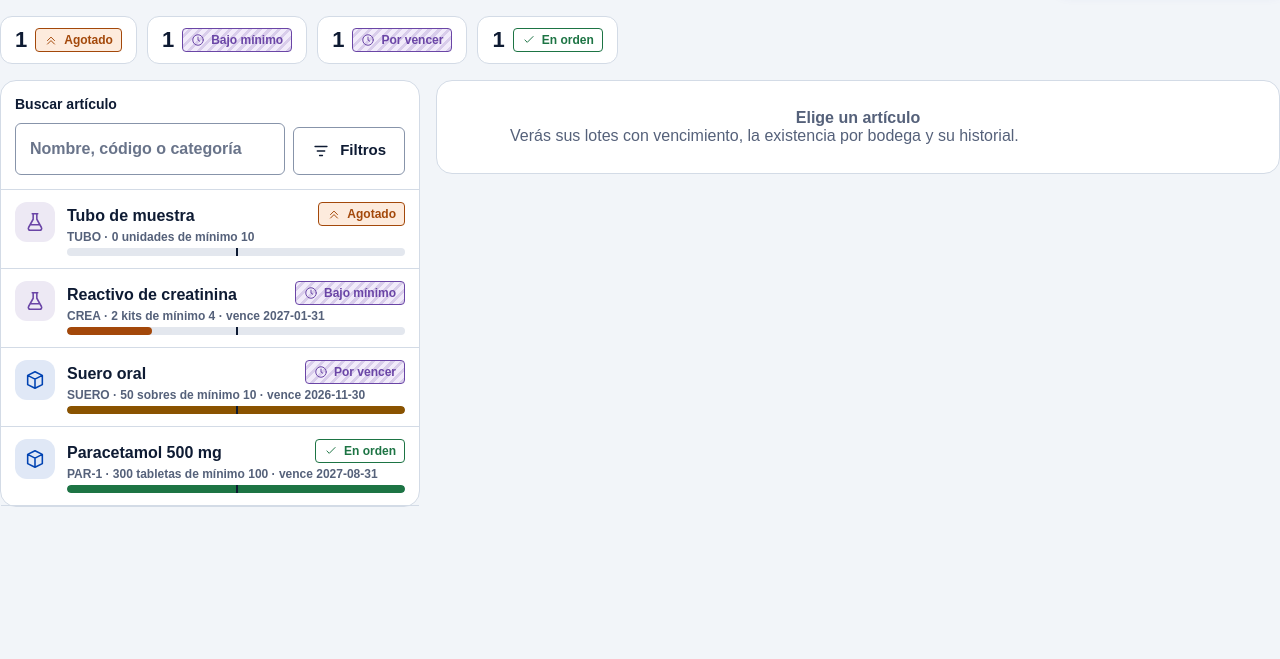
Test case: inventario · observación 10 › el historial muestra nombres de bodega y abre el detalle del movimiento
Click the button "Paracetamol 500 mg": click(210, 467) 1,427 -> 419,506
(page scrolled)
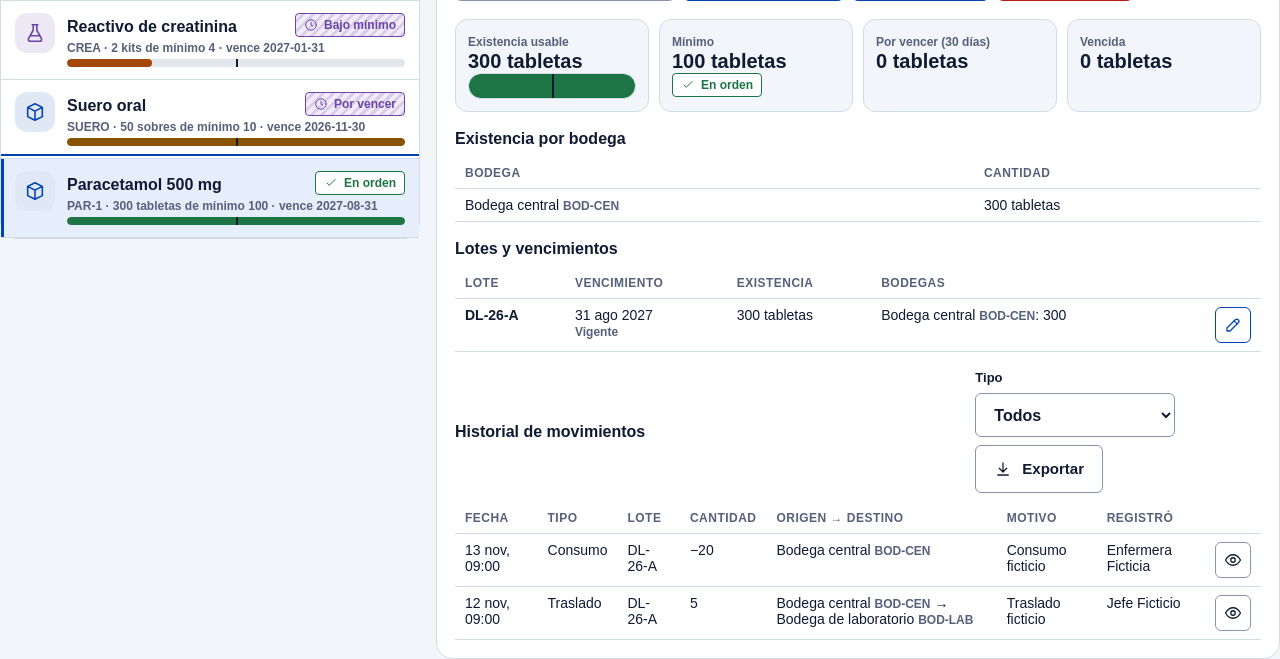
Check: the text "Bodega de laboratorio" is shown, box 776,611 -> 914,627
Click the button named "Ver detalle del movimiento": click(1233, 613) 1215,595 -> 1251,631
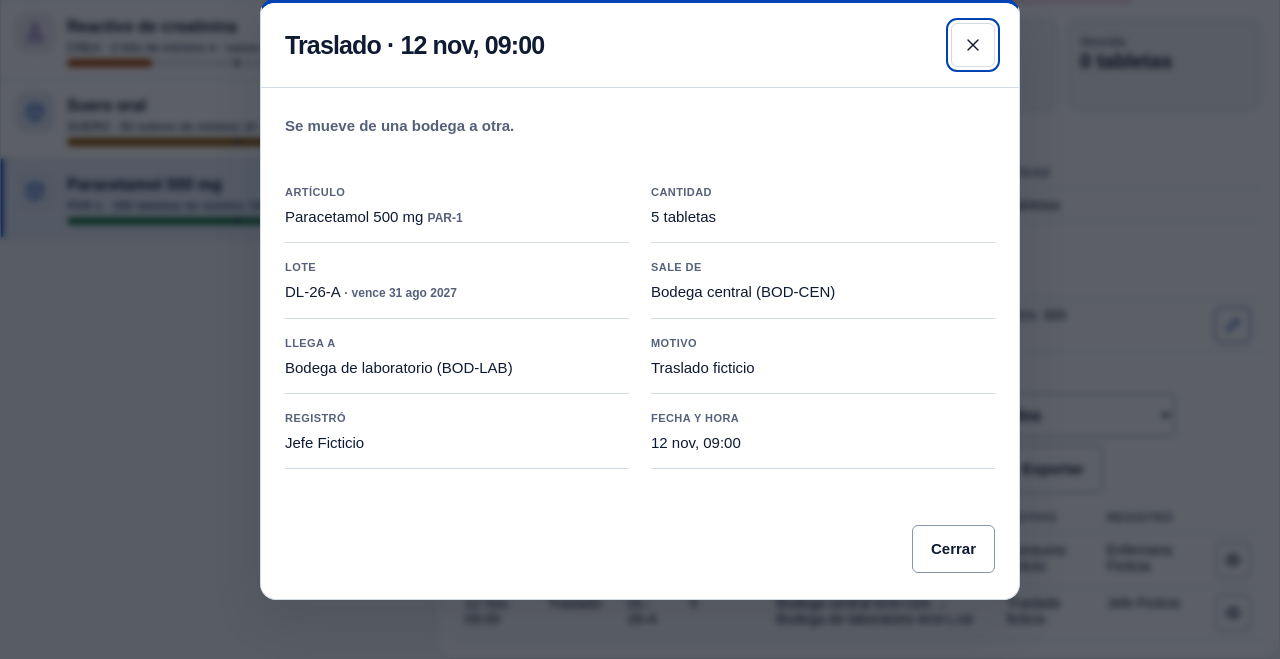
Check: the text "Bodega central (BOD-CEN)" is shown, box 651,283 -> 835,300
Check: the text "Bodega de laboratorio (BOD-LAB)" is shown, box 285,358 -> 513,376
Check: the text "Traslado ficticio" is shown, box 651,358 -> 755,376
